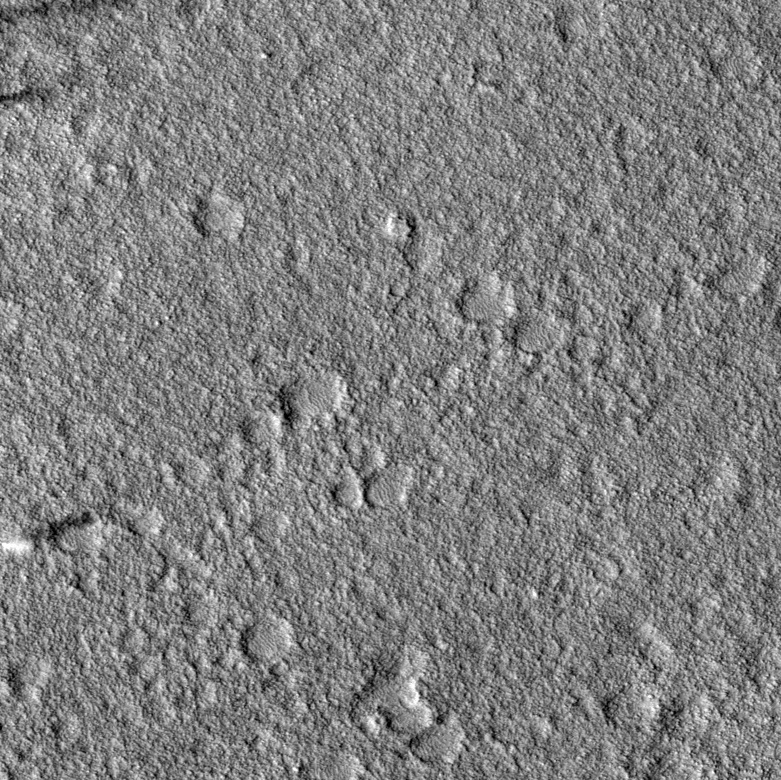dust_devil: (1, 506, 101, 557)
